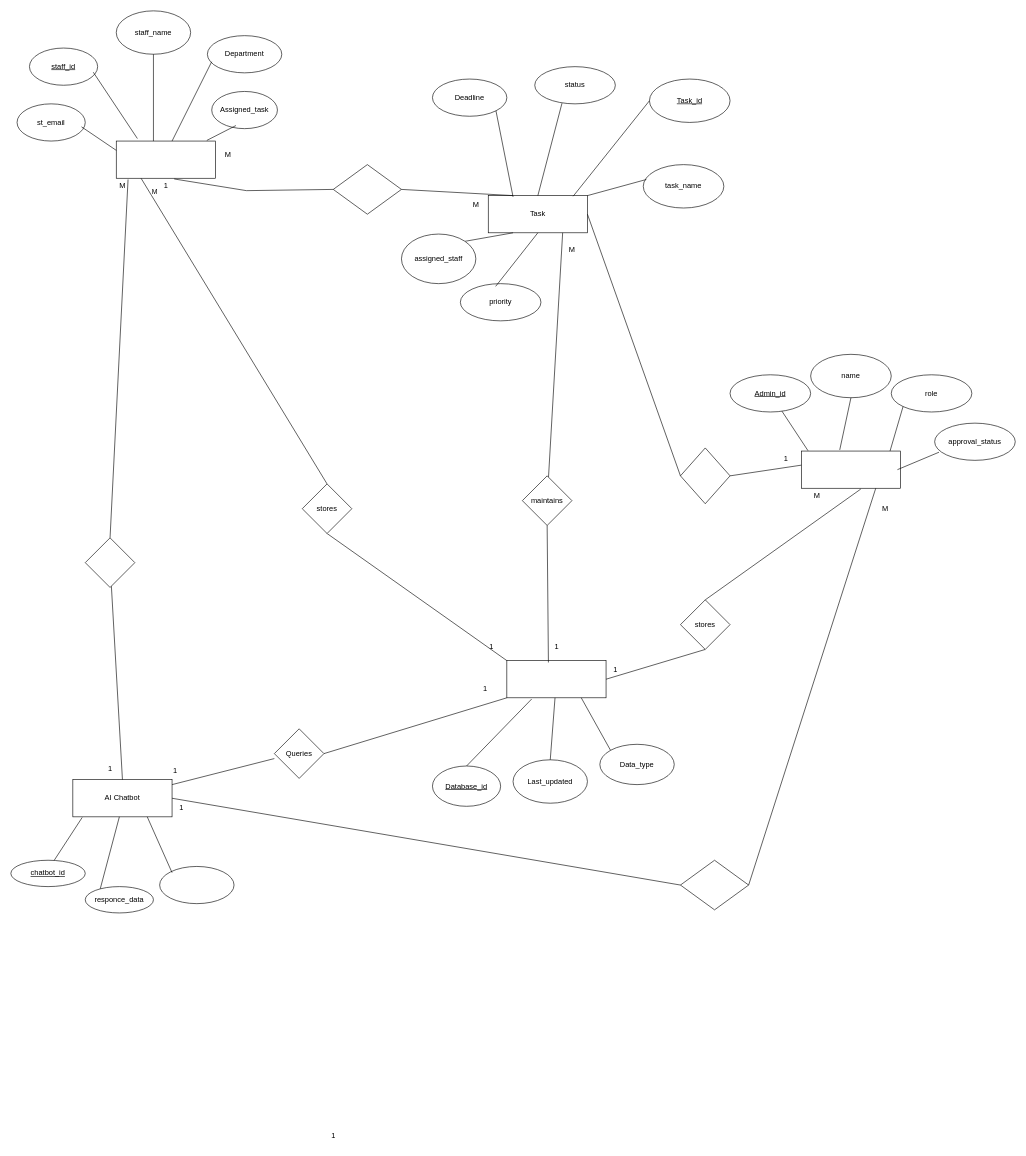
Some shapes in this 1026 by 1156 pixel diagram are drawn without their labels. Each missing label, with the centre of its shape:
Academic Staff: the point at 165,159
Administrative staff: the point at 851,469
approve: the point at 705,475
assists: the point at 714,885
has: the point at 367,189
interacts: the point at 110,562
Query_type: the point at 196,885
Sytem Database: the point at 556,679
